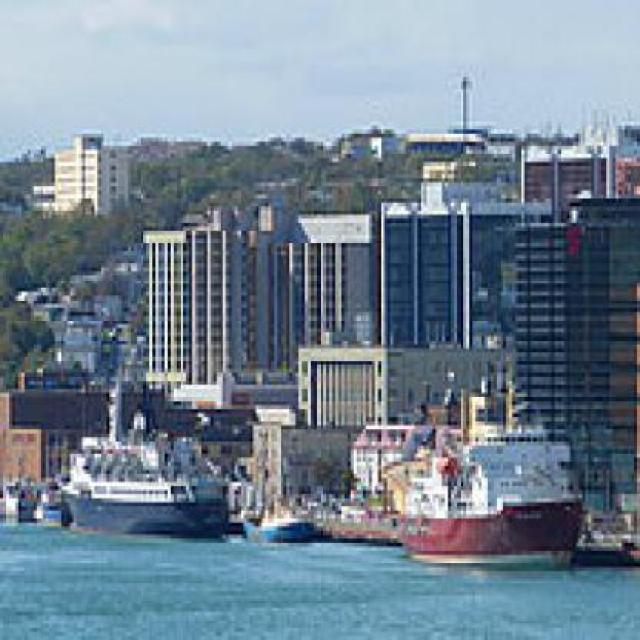cruise: (400, 418, 593, 572)
